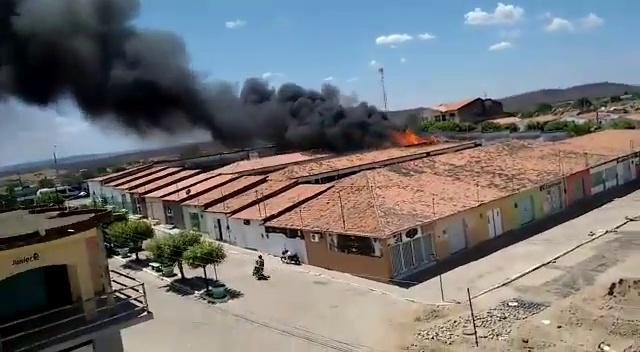Fire: (393, 113, 450, 148)
Smoke: (0, 3, 398, 148)
